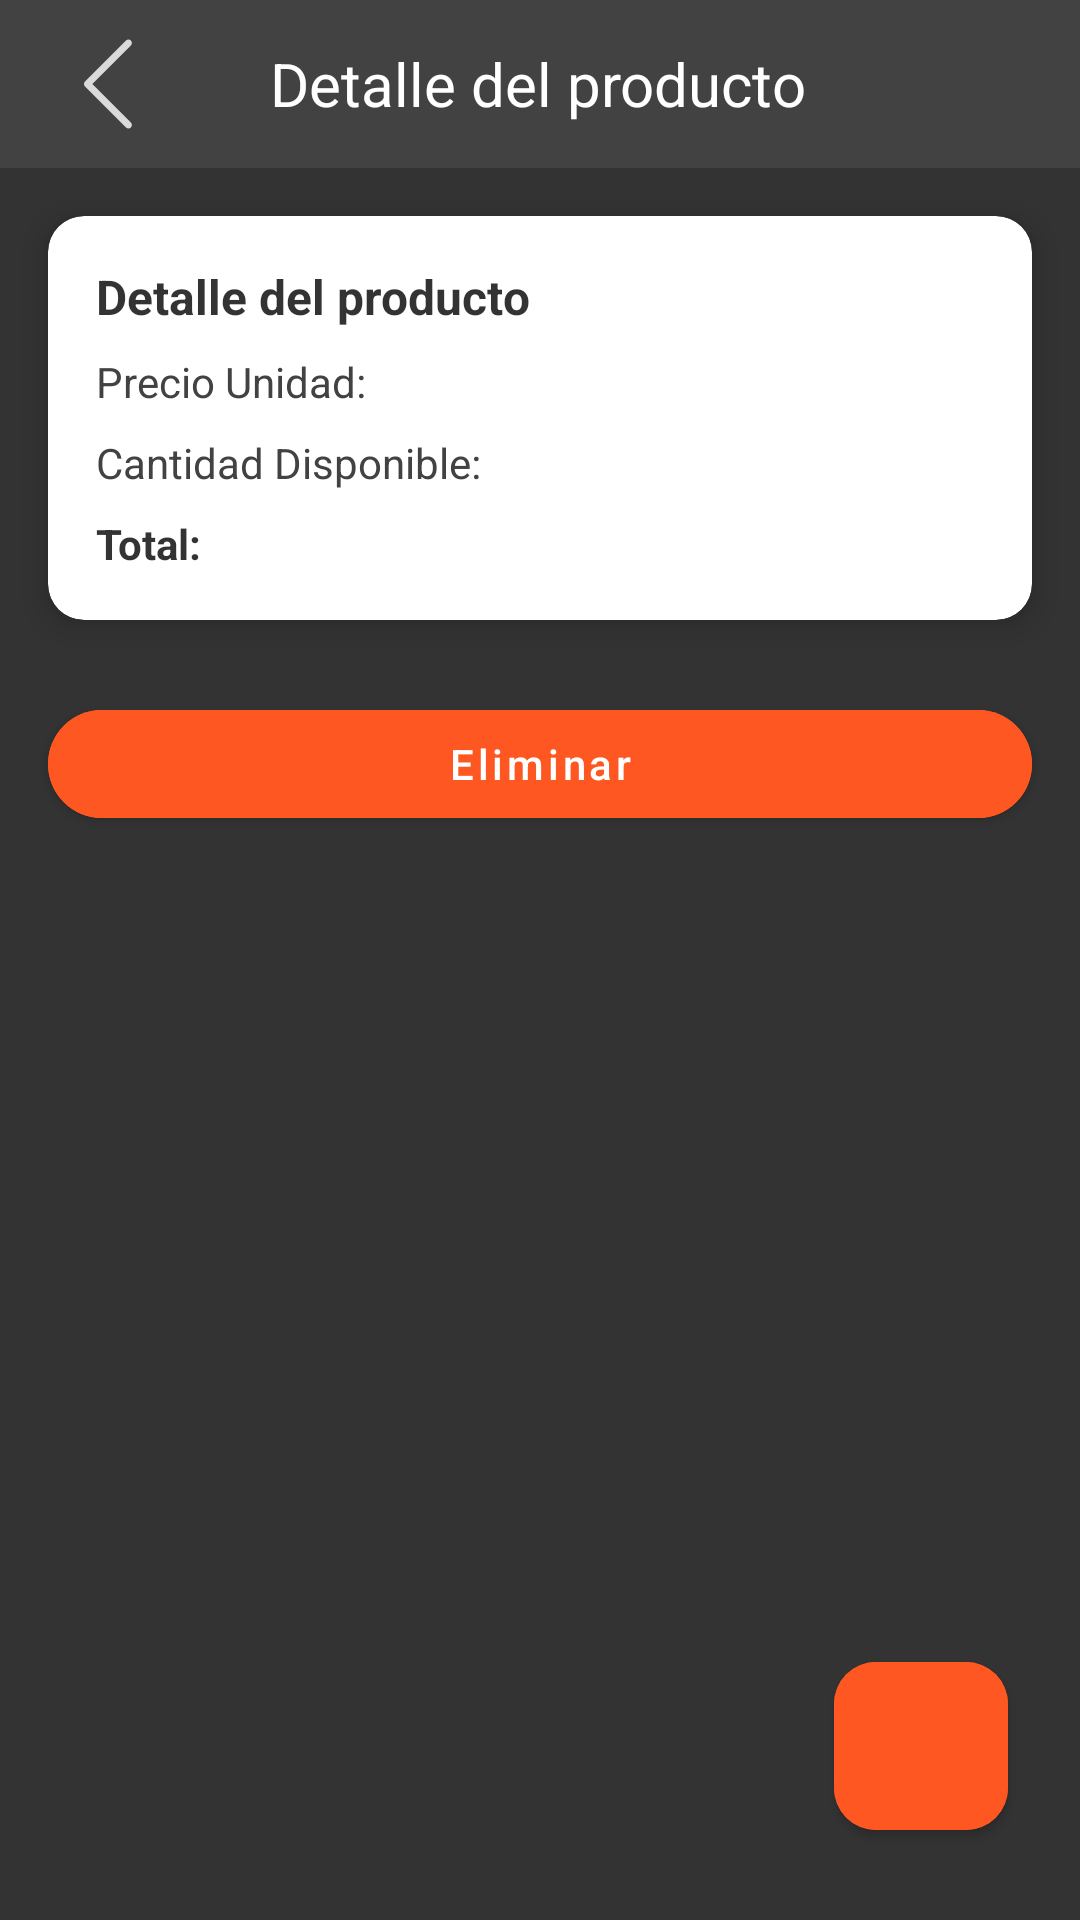

Locate icon controls on the screen. Image size 1080px×1920px, boxes as bbox(x1, y1, x2, y2).
left: bbox(84, 39, 132, 129)
